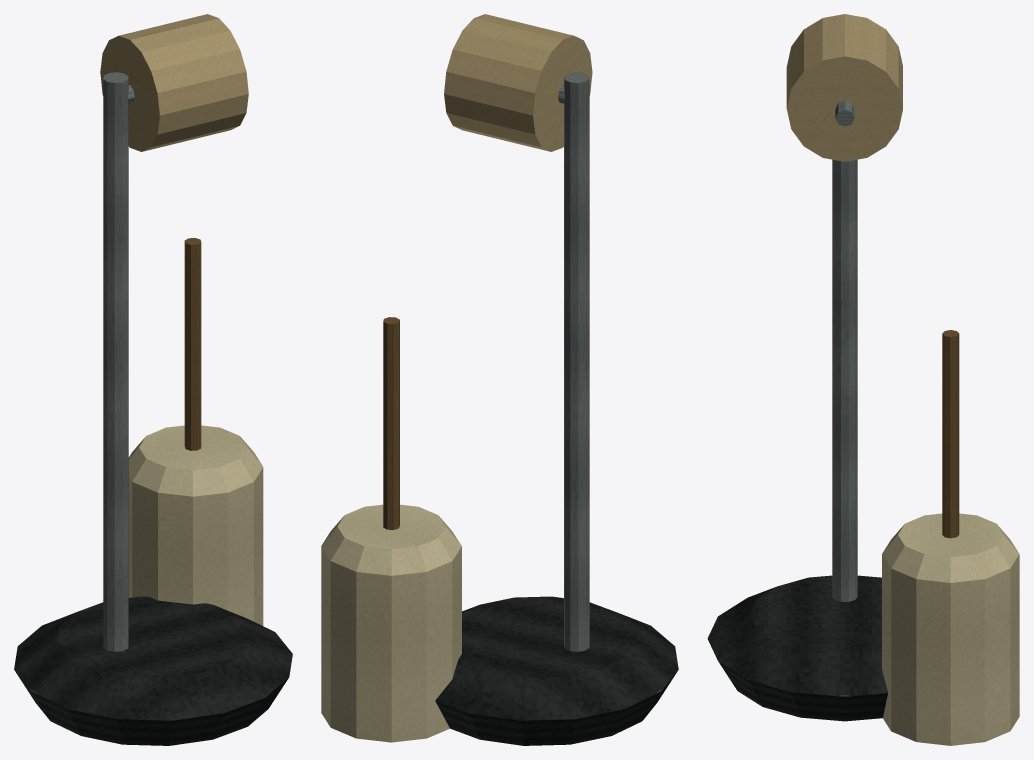
The model's file is level_bathroom_caddy.glb.
The picture shows the model from 3 angles, left to right: view 1: azimuth 30°, elevation 25°; view 2: azimuth 150°, elevation 25°; view 3: azimuth 270°, elevation 25°; orthographic projection. The views are drawn at different scales.
Parts seen in each view (by area): view 1: level_bathroom_caddy; view 2: level_bathroom_caddy; view 3: level_bathroom_caddy.
Boxes of the visible parts, x1=… form: level_bathroom_caddy: x1=14, y1=14, x2=292, y2=745; level_bathroom_caddy: x1=321, y1=14, x2=678, y2=745; level_bathroom_caddy: x1=707, y1=14, x2=1019, y2=745.
Size of the model in its own units: 0.295 by 0.675 by 0.295.
Materials: 5 (5 with a texture image).
